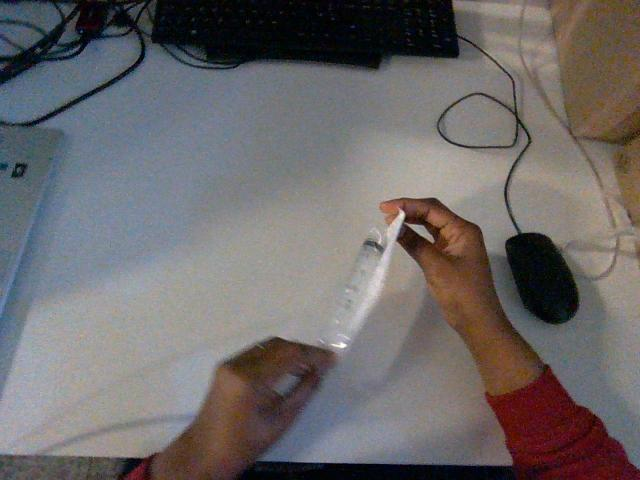syringe: (320, 211, 404, 354)
